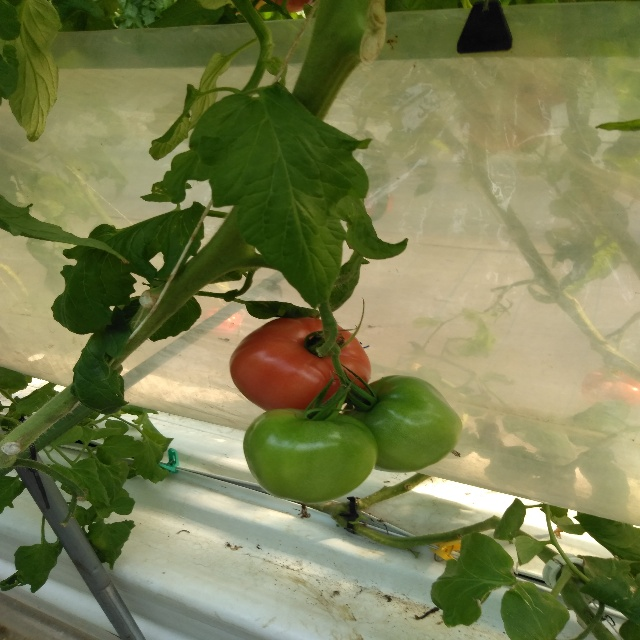b_fully_ripened: (229, 317, 372, 412)
b_green: (243, 409, 379, 503), (343, 375, 463, 473)
